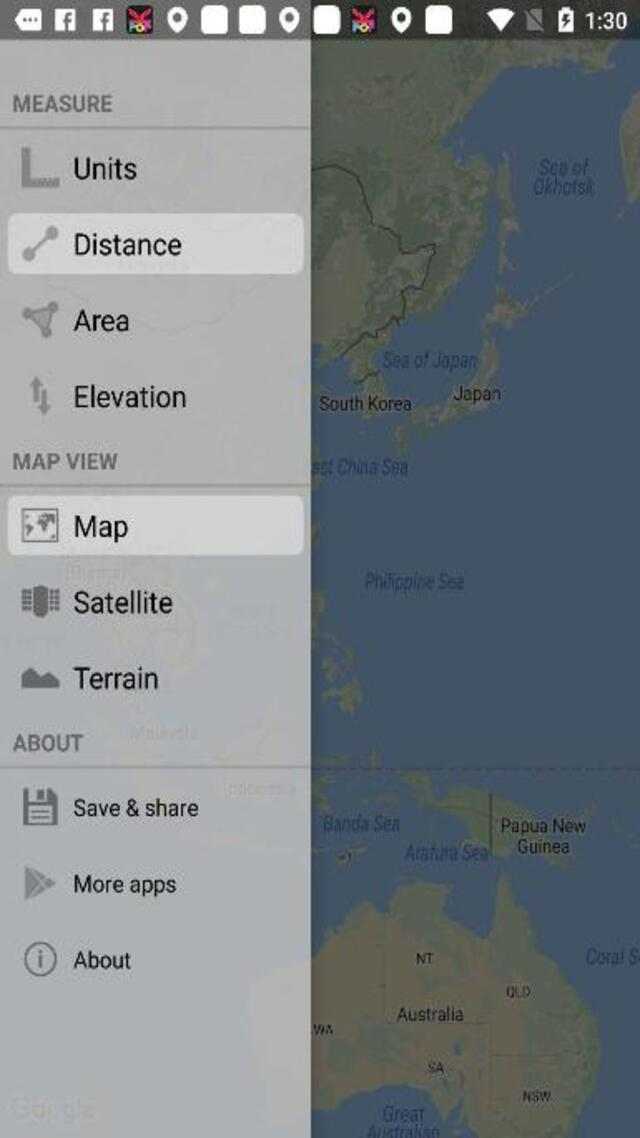Icon: (21, 146, 59, 188), (22, 786, 58, 825), (23, 941, 60, 977), (22, 302, 58, 339), (22, 506, 58, 542), (22, 226, 58, 260), (21, 585, 59, 617), (24, 866, 56, 902), (28, 374, 52, 415), (21, 667, 59, 688)
Text: (74, 384, 185, 409), (75, 231, 181, 256), (74, 797, 200, 818), (73, 589, 173, 614), (70, 874, 176, 897), (13, 93, 113, 113), (74, 666, 159, 689), (12, 452, 118, 470), (72, 156, 137, 182), (75, 513, 128, 543), (73, 308, 130, 332), (12, 732, 84, 750), (72, 950, 130, 970)
